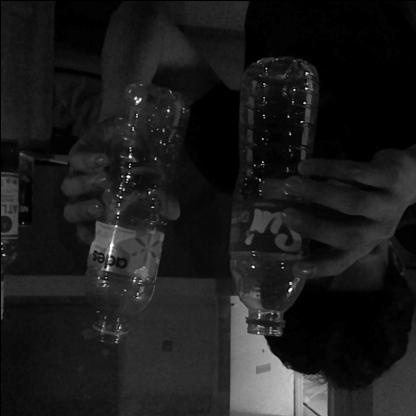plastic_bottles: (84, 80, 192, 344), (230, 57, 320, 338)
